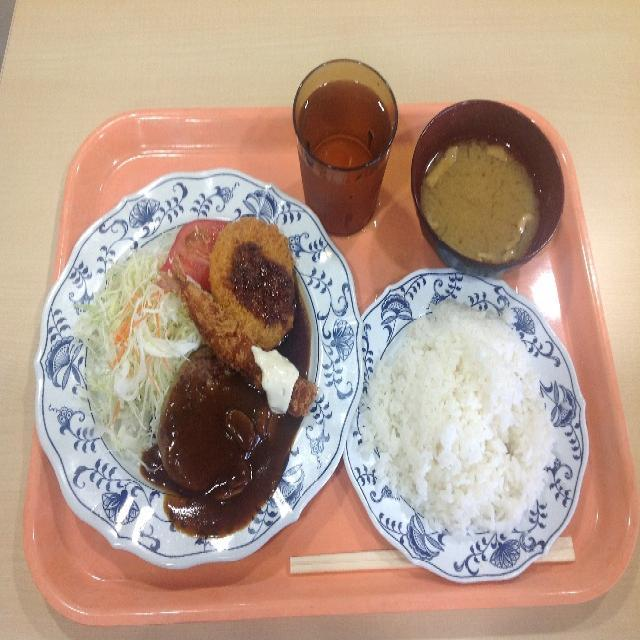Rice: (366, 293, 568, 553)
